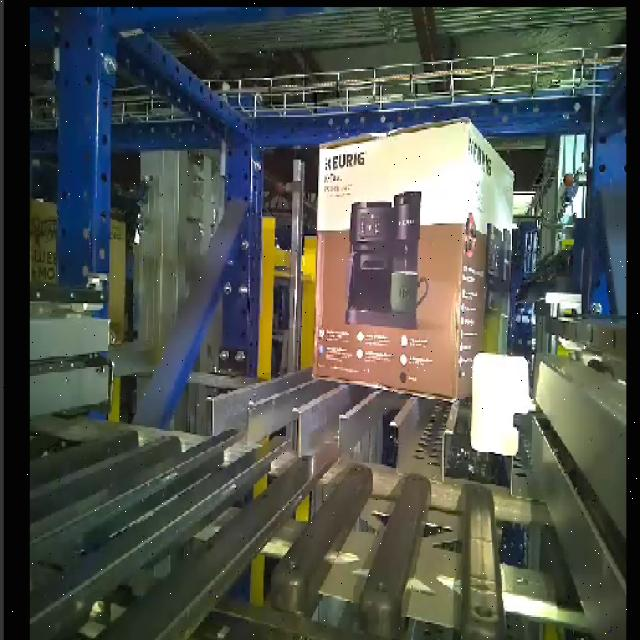box: (311, 111, 469, 404)
